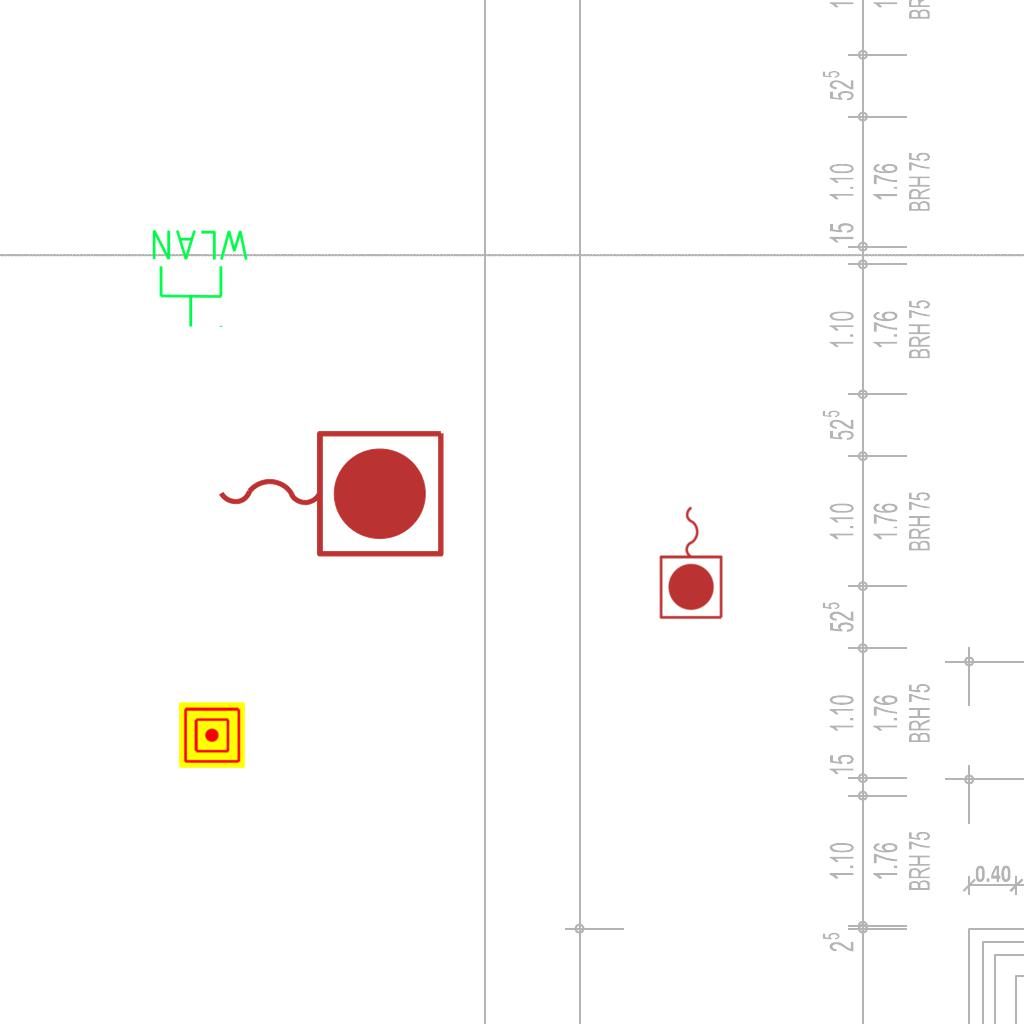NAM-Nichtautomatischer_Melder: (179, 702, 245, 768)
WLAN: (148, 226, 253, 330)
Zugtaster: (208, 420, 452, 564), (656, 501, 728, 623)
